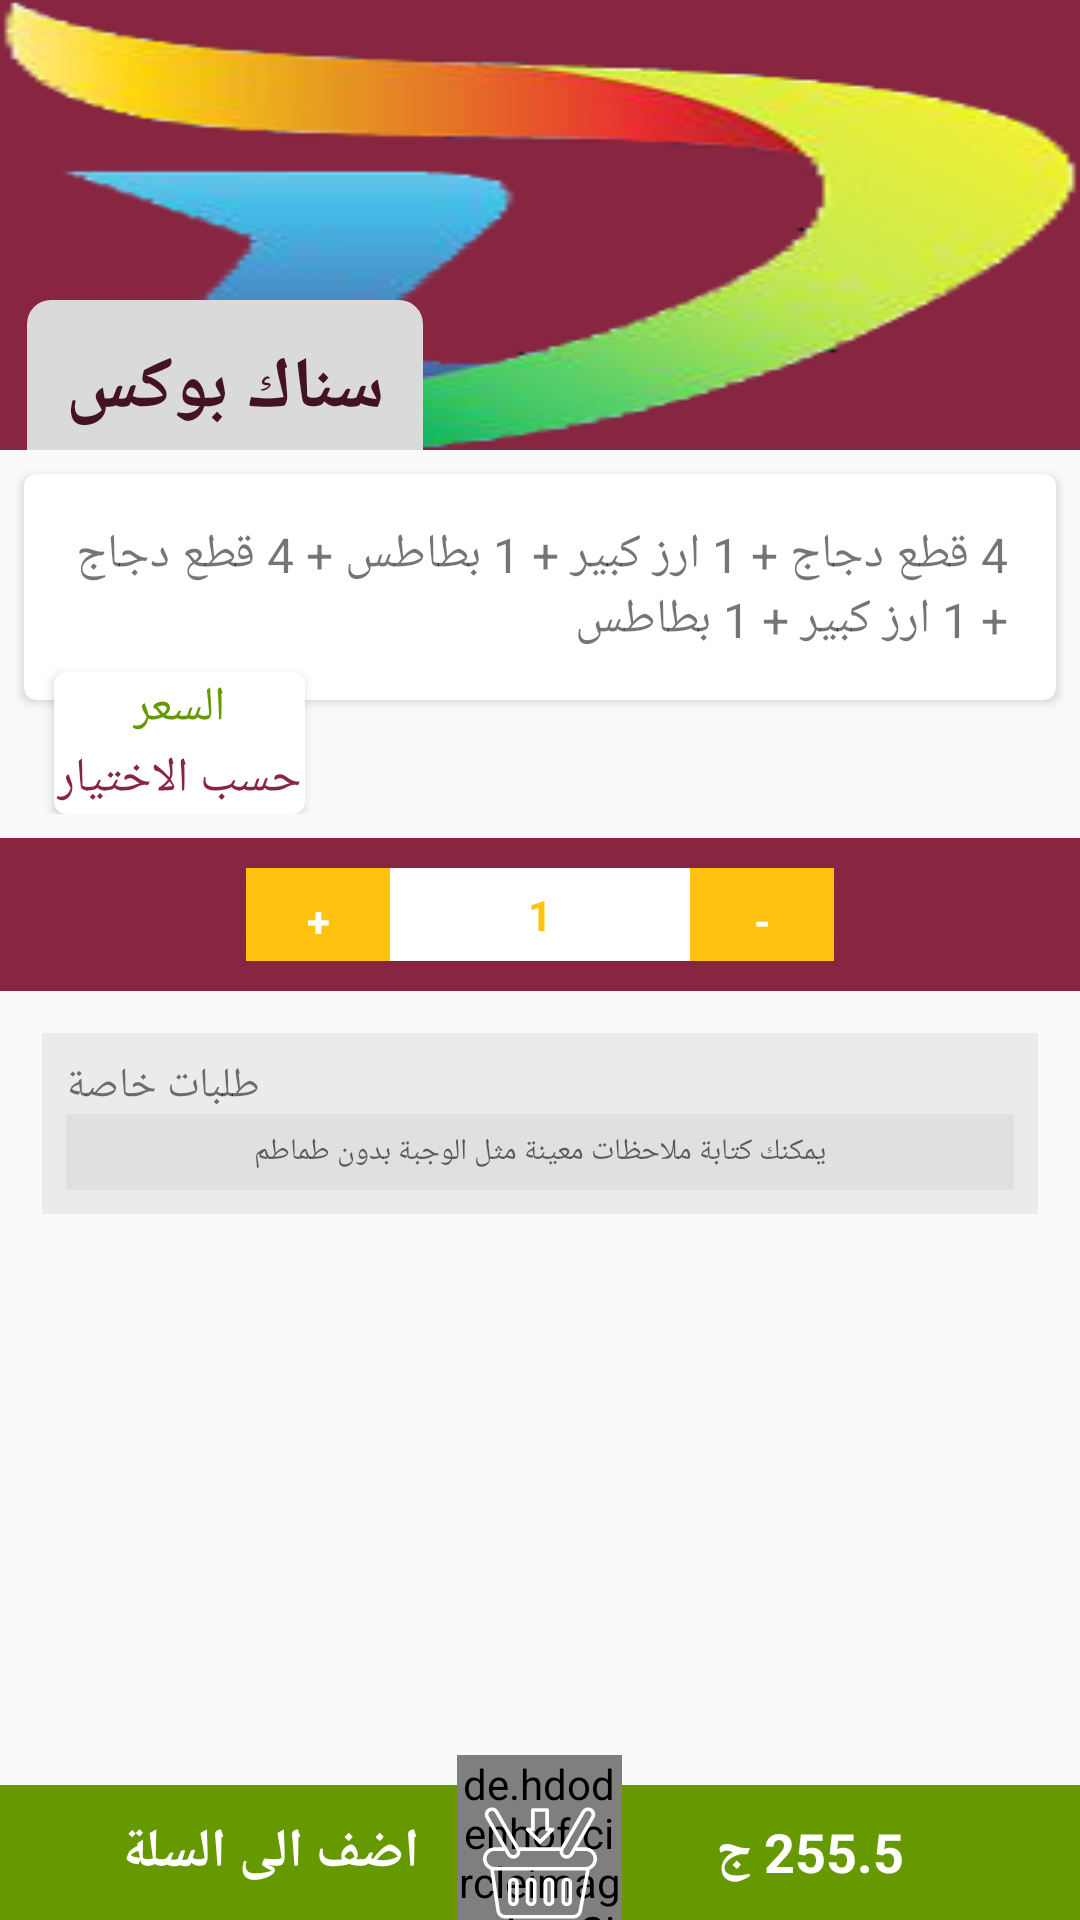

Screen size 1080w x 1920h. Icon name, then its center in pixels as [x,y]:
shopping basket: [540,1863]
